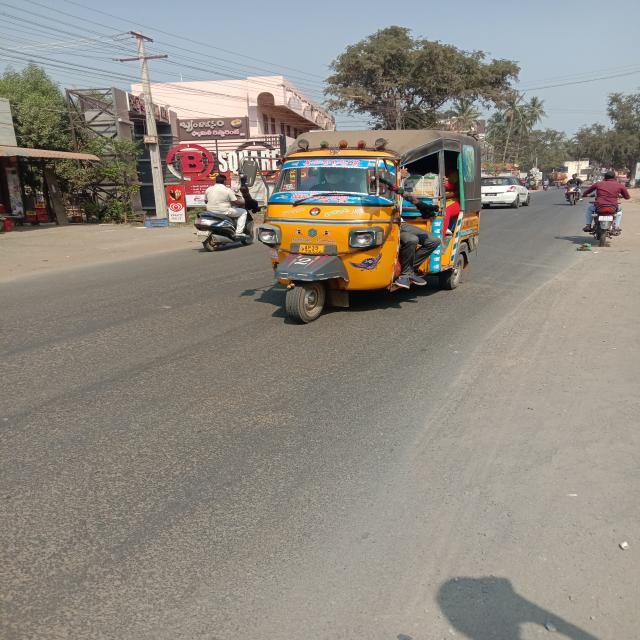Bike: (185, 175, 259, 254), (584, 167, 629, 249), (564, 172, 585, 206), (542, 179, 550, 192), (622, 180, 630, 188), (556, 180, 562, 189)
Car: (480, 173, 533, 212)
Truck: (544, 170, 568, 186)
tempo: (255, 113, 486, 330)
tractor: (523, 176, 540, 190)
